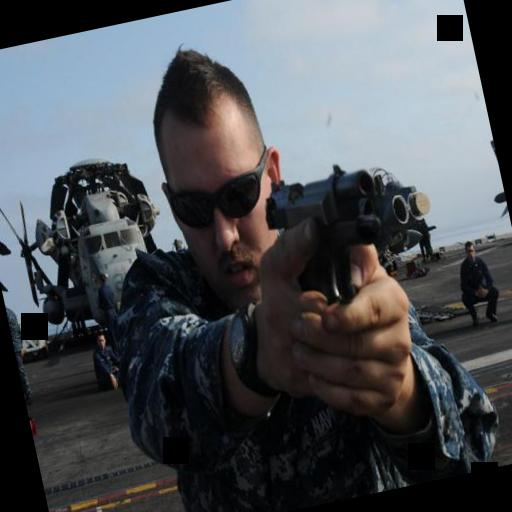Handgun: (254, 152, 402, 316)
